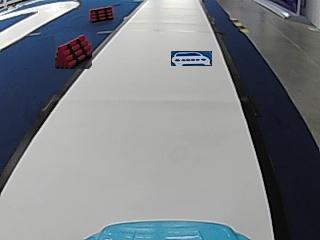bomb: (90, 5, 114, 21)
